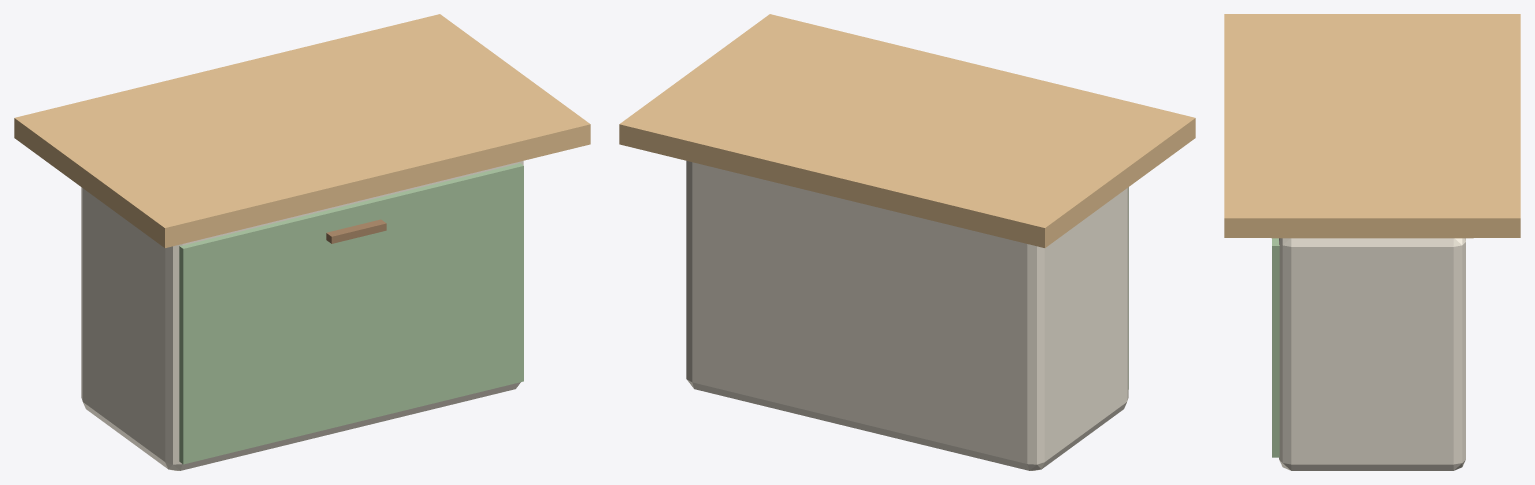
File: cozy-home-interiors-kitchen-island-aa344597.glb
3 renders of one model, left to right at view 1: azimuth 30°, elevation 25°; view 2: azimuth 150°, elevation 25°; view 3: azimuth 270°, elevation 25°, orthographic.
Visible parts, largest first — view 1: kitchen-island; view 2: kitchen-island; view 3: kitchen-island.
Part boxes in pixels (x1,y1,x2,y2): kitchen-island: (14, 14, 590, 470); kitchen-island: (619, 14, 1195, 470); kitchen-island: (1224, 14, 1520, 470).
Bounding box in the file's own units: 1.55 × 0.97 × 0.95.
